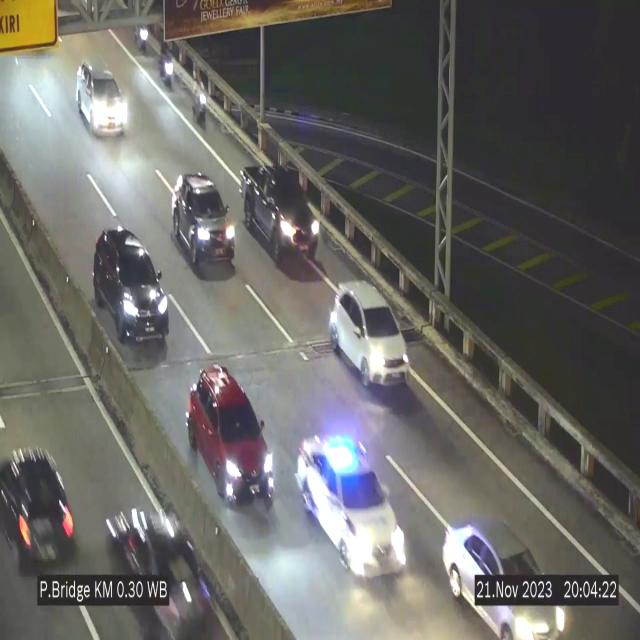Car: (296, 418, 406, 578), (108, 490, 214, 640), (448, 509, 560, 640), (185, 359, 278, 515), (2, 431, 82, 571), (93, 225, 169, 348), (329, 281, 410, 387), (242, 160, 320, 263), (172, 169, 240, 276), (76, 63, 128, 133)
Motorcycle: (190, 68, 208, 135), (158, 33, 174, 96), (134, 10, 152, 55)
